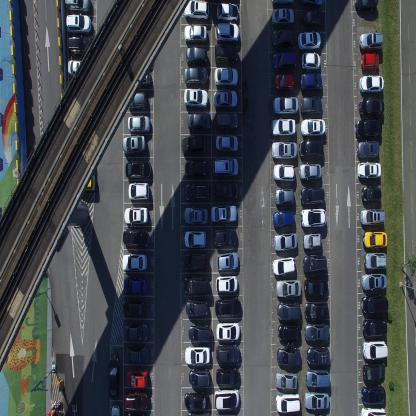car: (354, 118, 382, 140), (66, 34, 92, 57), (361, 295, 388, 317), (122, 226, 149, 248), (213, 388, 240, 410), (107, 352, 119, 400), (275, 392, 301, 414), (123, 390, 149, 412), (123, 320, 149, 342), (65, 12, 91, 34), (183, 0, 209, 22), (211, 156, 238, 177), (124, 158, 152, 178), (185, 179, 210, 201), (302, 255, 327, 277), (303, 278, 328, 300), (362, 318, 387, 340), (361, 385, 386, 407), (184, 390, 209, 412), (183, 87, 208, 109), (272, 51, 297, 73), (303, 323, 329, 344), (215, 320, 241, 341), (358, 31, 384, 52), (299, 209, 326, 229), (361, 342, 388, 362), (181, 133, 205, 155), (122, 134, 146, 156), (214, 66, 238, 88), (215, 22, 239, 44), (182, 250, 207, 271), (304, 368, 329, 389), (305, 346, 330, 367), (271, 28, 296, 49), (359, 97, 384, 118), (182, 204, 208, 224), (275, 278, 301, 298), (215, 296, 241, 316), (215, 342, 241, 362), (184, 345, 210, 365), (272, 95, 298, 115), (298, 139, 324, 159), (300, 117, 326, 137), (358, 74, 384, 94), (277, 301, 300, 323), (126, 368, 149, 390), (184, 157, 208, 178), (214, 43, 238, 64), (302, 302, 327, 322), (304, 390, 329, 410), (212, 89, 237, 109), (183, 24, 208, 44), (271, 140, 297, 159), (360, 207, 386, 226), (361, 272, 387, 291), (210, 204, 237, 222), (213, 180, 237, 200), (300, 187, 324, 207), (274, 232, 298, 252), (122, 251, 146, 271), (123, 274, 147, 294), (215, 366, 239, 386), (188, 322, 212, 342), (362, 362, 386, 382), (272, 256, 296, 276), (184, 66, 208, 86), (297, 30, 321, 50), (183, 274, 208, 293), (276, 348, 301, 367), (272, 210, 295, 230), (72, 172, 95, 192), (126, 345, 149, 365), (215, 111, 238, 131), (215, 134, 238, 154), (299, 72, 322, 92), (302, 8, 325, 28), (364, 250, 387, 270), (213, 226, 237, 245), (127, 114, 151, 133), (124, 205, 148, 224), (122, 298, 146, 317), (215, 274, 239, 293), (187, 112, 211, 131), (128, 180, 150, 200), (188, 366, 210, 386), (300, 50, 320, 72), (217, 251, 240, 270), (300, 96, 323, 115), (356, 140, 379, 159), (298, 162, 322, 180), (270, 8, 294, 26), (271, 118, 295, 136), (357, 161, 381, 179), (363, 230, 387, 248), (217, 1, 238, 21), (274, 73, 294, 94), (360, 184, 381, 204), (183, 229, 205, 248), (186, 46, 208, 65), (277, 323, 300, 341), (185, 298, 208, 316), (67, 58, 90, 76), (301, 233, 322, 252), (128, 90, 147, 111), (274, 372, 296, 390), (273, 163, 295, 181), (130, 68, 151, 86), (275, 188, 295, 205), (64, 0, 90, 13), (361, 54, 379, 72), (354, 0, 378, 13), (360, 405, 387, 415), (301, 0, 324, 8), (272, 0, 294, 7), (109, 404, 121, 415), (216, 410, 237, 415), (186, 411, 210, 415)
